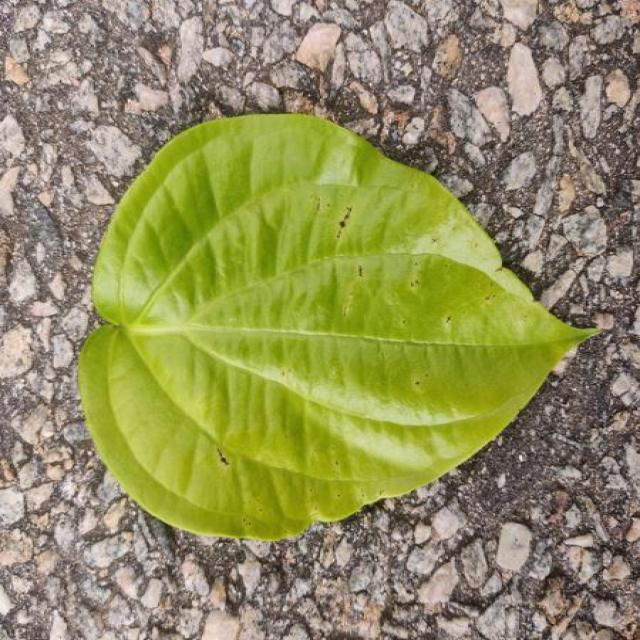betel: (78, 115, 595, 539)
